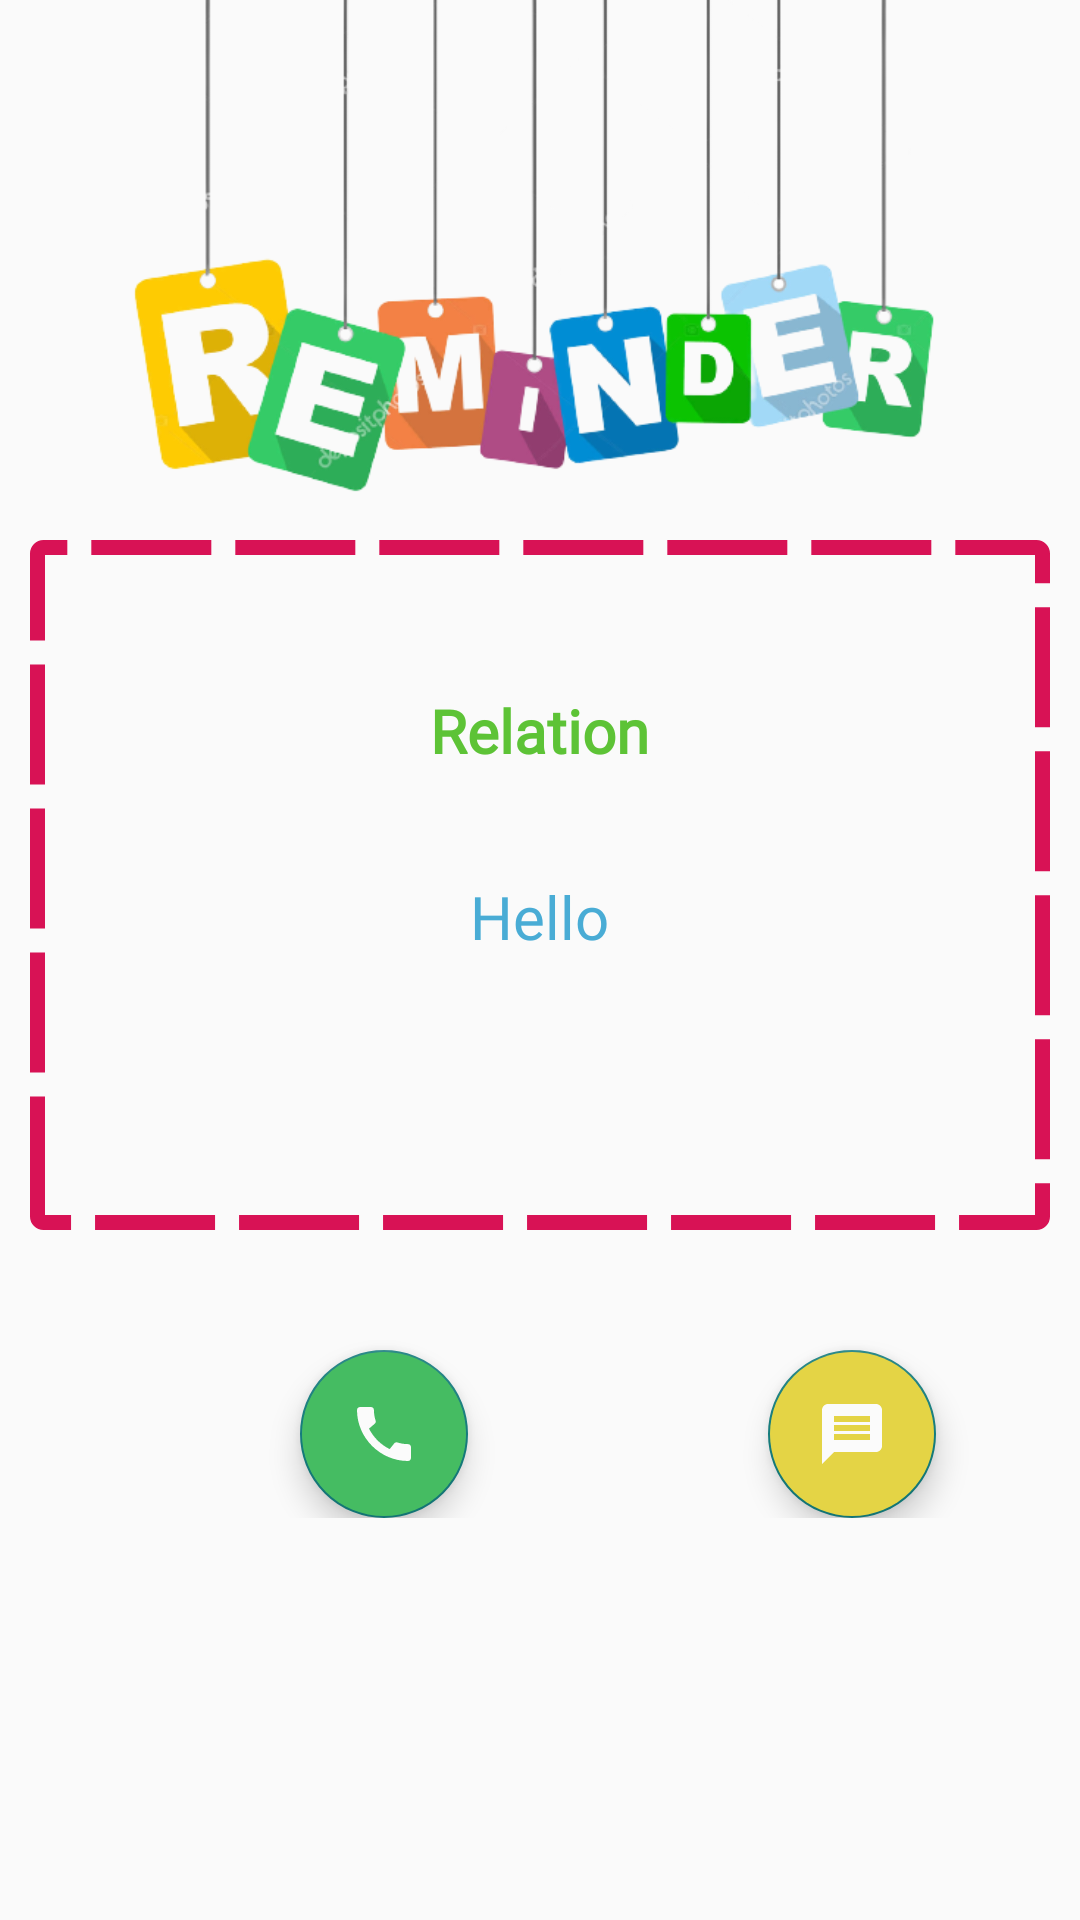

Where to tap for icons on this 1080px x 1920px app screen, as point (x, y):
call: point (384, 1434)
message: point (852, 1434)
